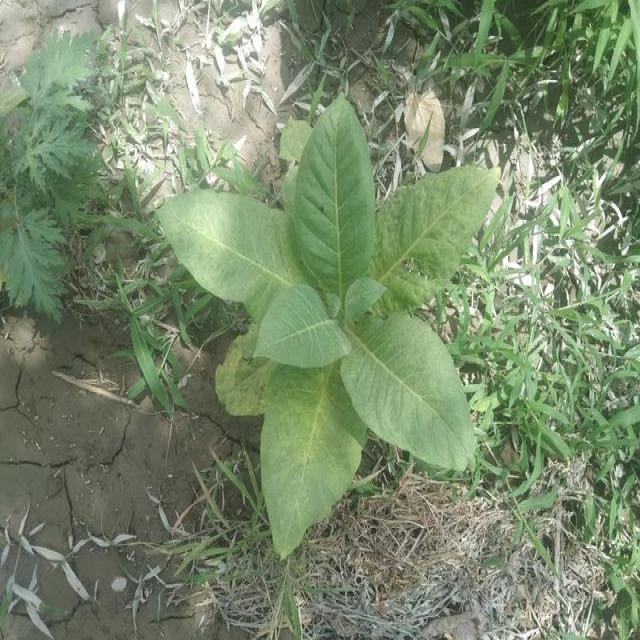crop: (156, 93, 509, 544)
